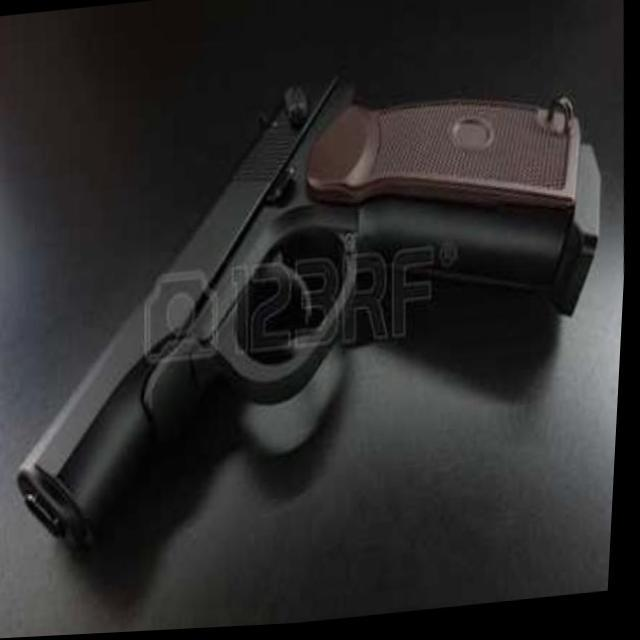weapon: (0, 48, 625, 564)
